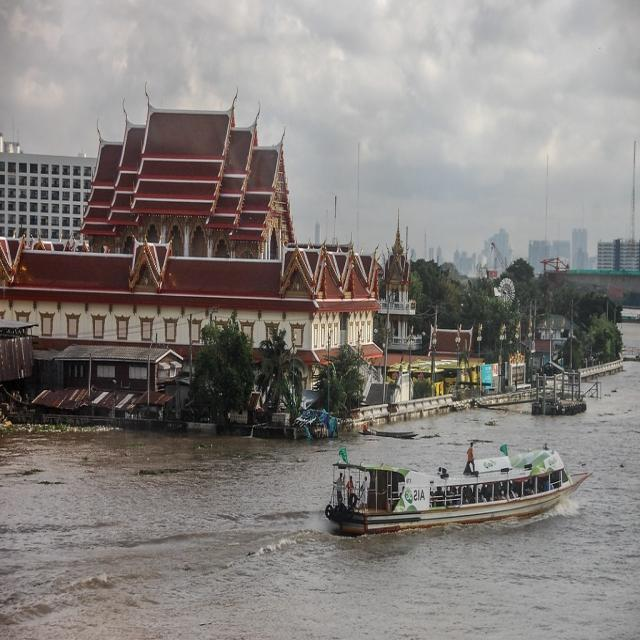Hyacinth: (481, 415, 503, 432)
boat: (327, 460, 596, 539), (360, 428, 424, 443)
